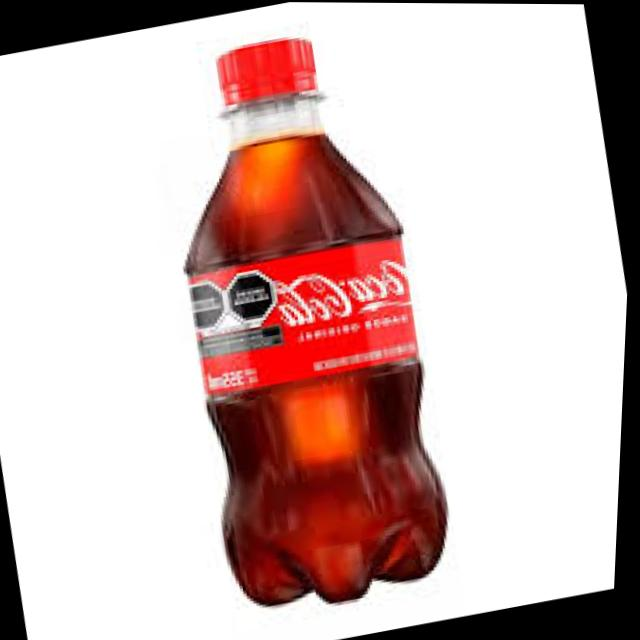Botella: (117, 7, 497, 623)
